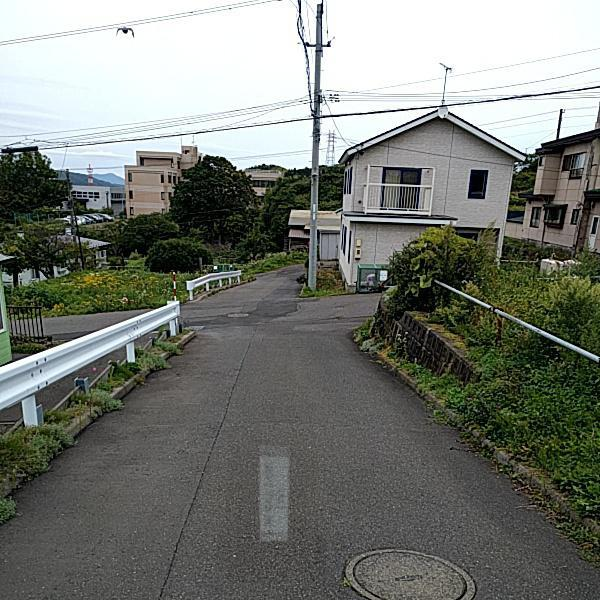D50: (339, 541, 484, 599)
